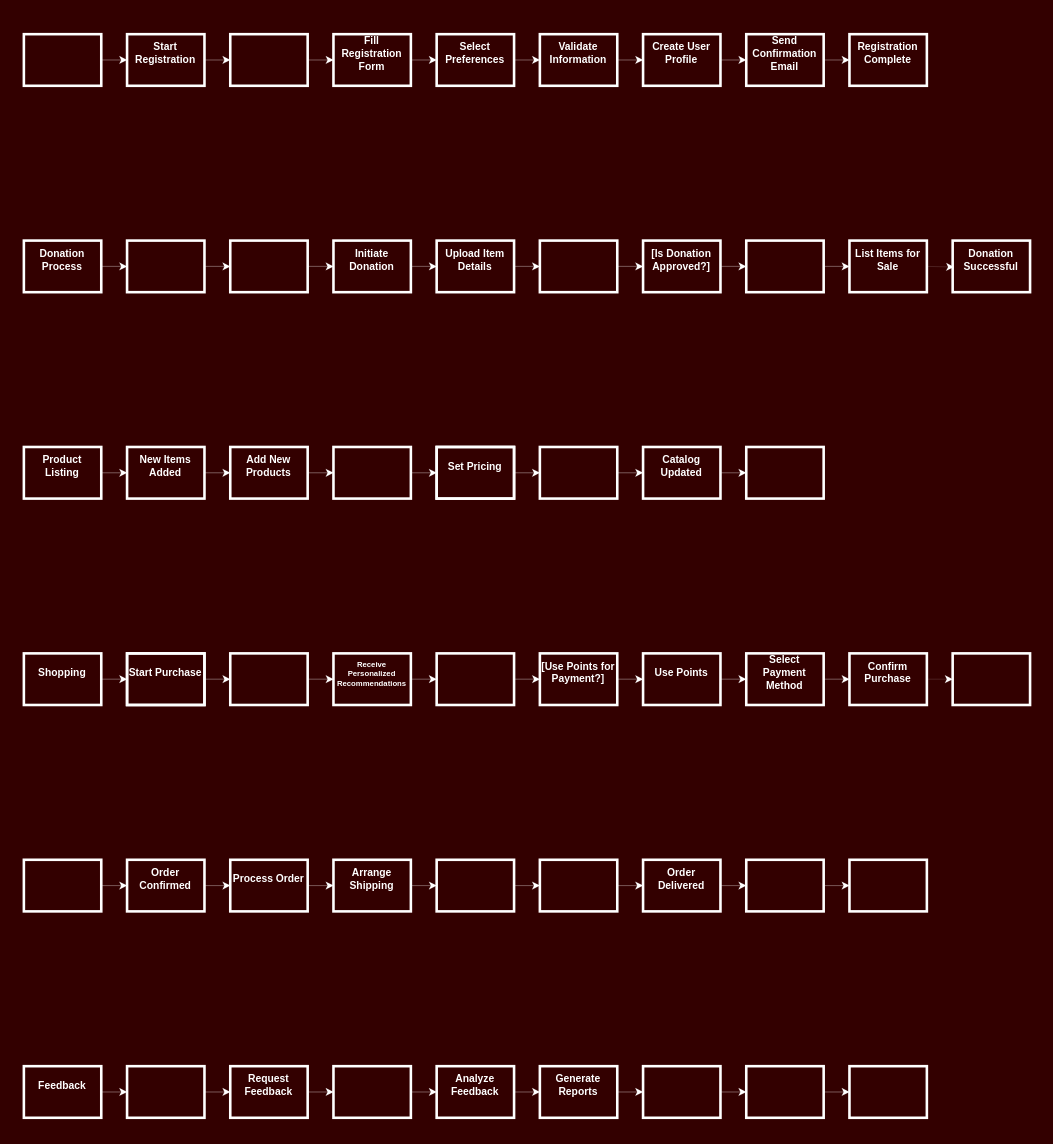
The diagram is 1053 pixels wide and 1144 high, and some of its shapes have lost their labels. Each missing label, with the centre of its shape:
Add to Shopping Cart: the point at 475,678
Approve Donation: the point at 784,266
Browse Product Catalog: the point at 268,678
Collect Feedback: the point at 372,1091
Confirm Delivery: the point at 578,885
Feedback Recorded: the point at 681,1091
Generate Monthly Product Catalog: the point at 578,472
Log In: the point at 268,266
Order Fulfillment: the point at 62,885
Purchase Completed: the point at 165,1091
Purchase Confirmed: the point at 991,678
Review Donation: the point at 578,266
Select Registration Type: the point at 268,59
Start Donation: the point at 165,266
Track Shipment: the point at 475,885
Update Inventory: the point at 372,472
User Registration: the point at 62,59
